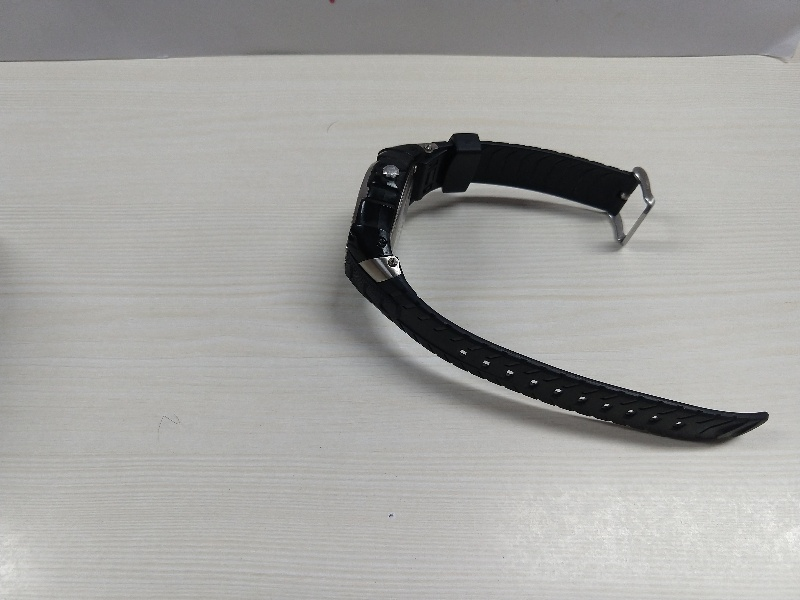watch: (336, 133, 774, 443)
